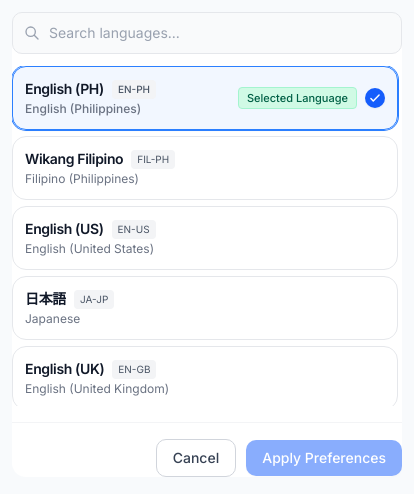
Scenario: RENTipid GLCC v1.0.1 — Work Package P7: Language Selector UX Suite › 3. Search UX & Result Governance › displays deterministic empty state when no languages match
Type "nonexistent-query-xyz" into the search field at (207, 33), box [12, 12, 402, 54]
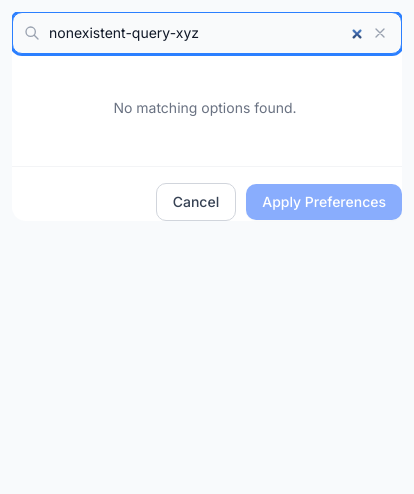
Result: the message "No matching options found." is shown at [113, 99, 297, 116]
Result: the option is gone
